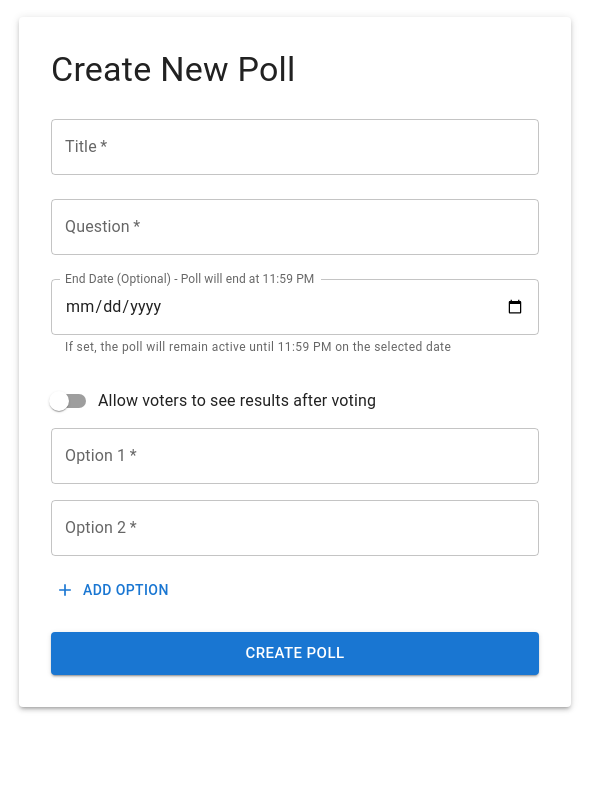
it: CreatePoll Component › displays error message on form submission failure
Fill out the form with minimal valid data
Type "Test Poll" into the field labelled "Title *" at (295, 147), box [51,119,539,175]
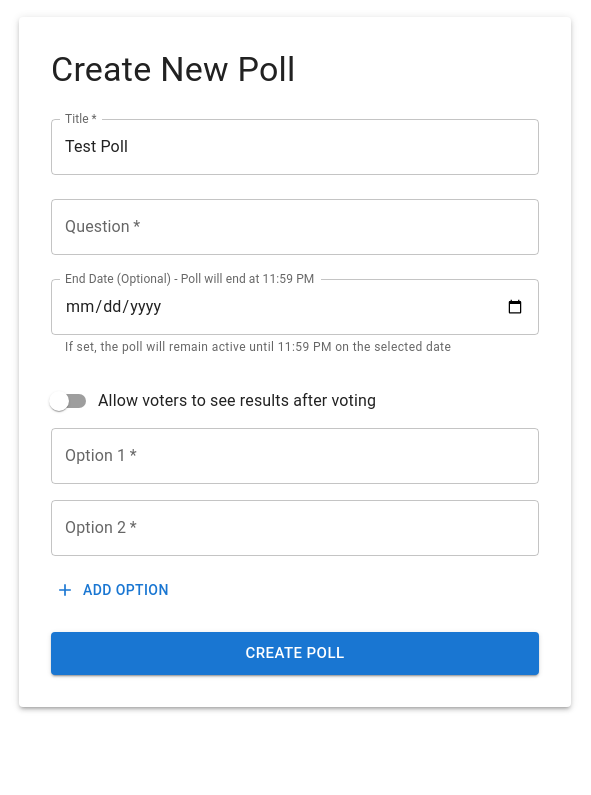
Type "What is your favorite color?" into the field labelled "Question *" at (295, 227), box [51,199,539,255]
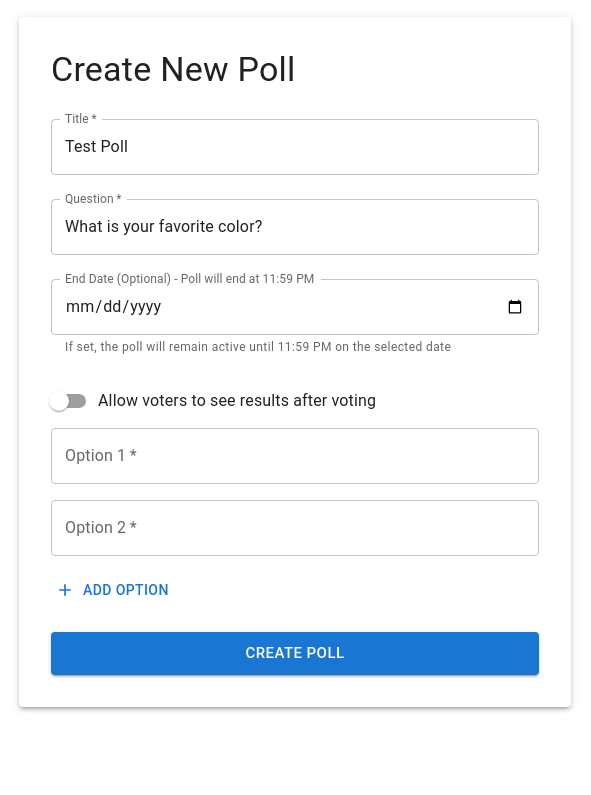
Add options
Type "Red" into the field labelled "Option 1 *" at (295, 456), box [51,428,539,484]
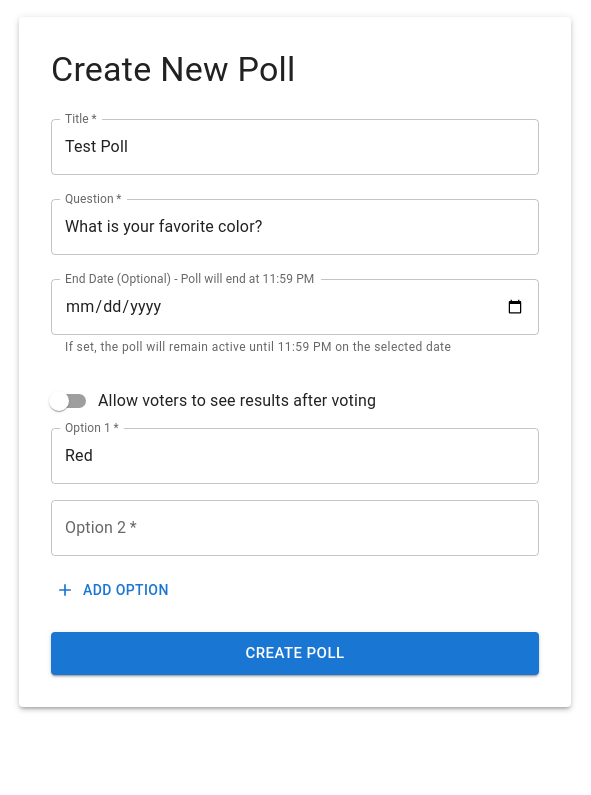
Type "Blue" into the field labelled "Option 2 *" at (295, 528), box [51,500,539,556]
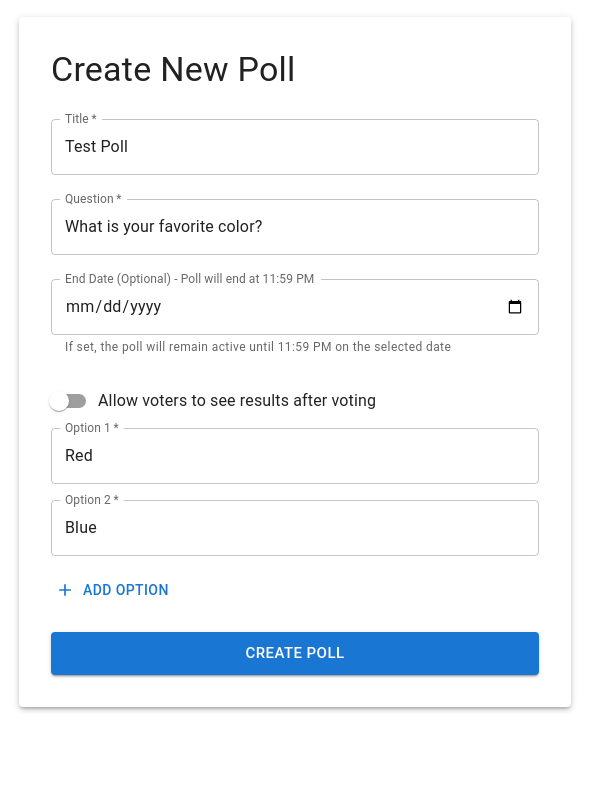
Submit the form
Click the button "Create Poll" at (295, 653), box [51,632,539,675]
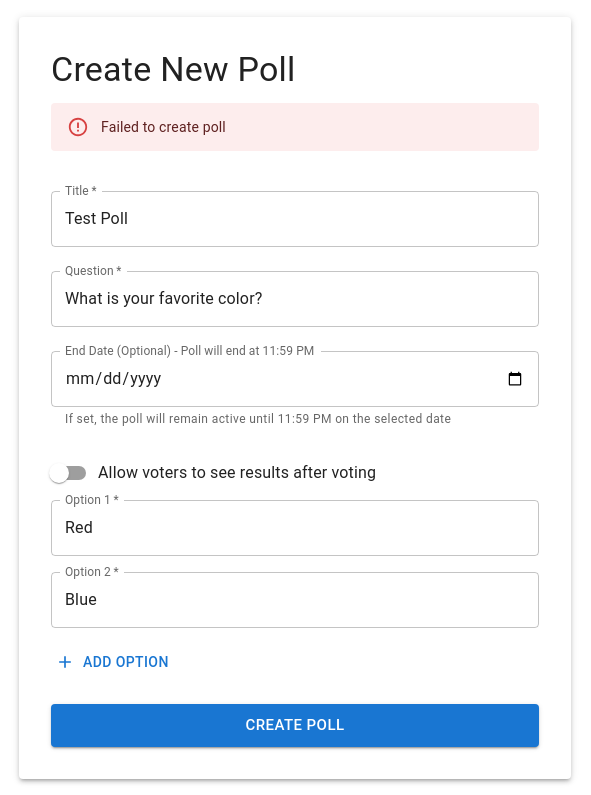
Now the text "Failed to create poll" is shown, box [101,119,226,135]
